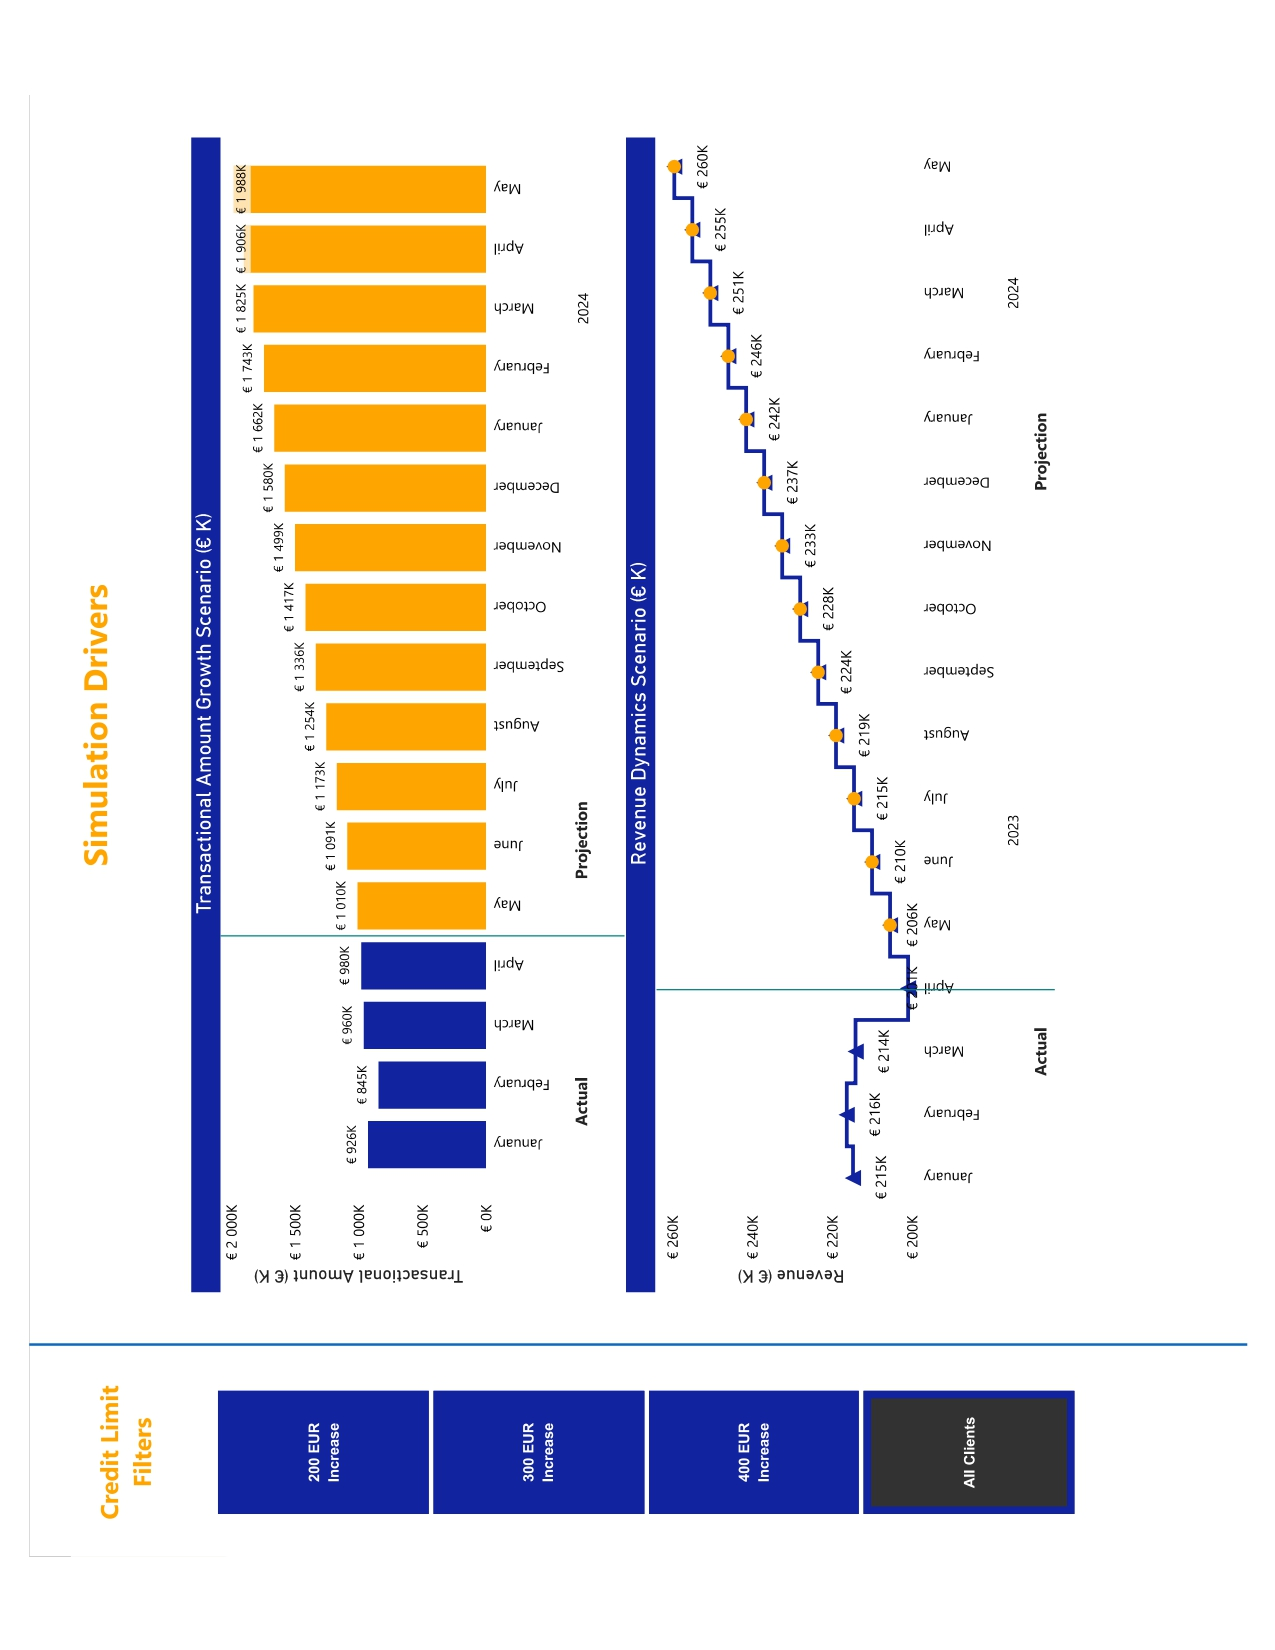

What the dashboard file says about the page in this screenshot:
{"tool":"powerbi","page":{"name":"Revenue: Budget vs. Actual","canvas":[1200,1000],"ordinal":1},"visuals":[{"type":"actionButton","box":[108.6,363.8,38,43.4],"z":0},{"type":"slicer","fields":{"Values":["Revenue.Credit Limit Setting Filters"]},"box":[8.6,132.6,151.8,732.2],"z":1000},{"type":"lineStackedColumnComboChart","title":"Transactional Amount Growth Scenario (€ K)","fields":{"Category":["TransactionalAmount.Date.Variation.Date Hierarchy.Year","TransactionalAmount.Date.Variation.Date Hierarchy.Month"],"Y":["Sum(TransactionalAmount.Value)"]},"box":[216.2,132.6,933,356.5],"z":2000},{"type":"shape","box":[498.9,157.9,11.6,331.6],"z":3000},{"type":"lineChart","title":"Revenue Dynamics Scenario (€ K)","fields":{"Y":["Sum(Revenue.Value)"],"Category":["Revenue.Date.Variation.Date Hierarchy.Year","Revenue.Date.Variation.Date Hierarchy.Month"]},"box":[216.2,489.1,933,352.6],"z":4000},{"type":"textbox","box":[150,900,300,300],"z":6000},{"type":"textbox","box":[550.6,439.1,102.8,49],"z":7000},{"type":"textbox","box":[249.8,439.1,149.9,49],"z":8000},{"type":"textbox","box":[291.1,815.8,149.9,49],"z":9000},{"type":"textbox","box":[869.6,815.8,102.8,49],"z":10000},{"type":"shape","box":[216,23.3,932.8,58.7],"z":11000},{"type":"shape","box":[21.4,23.3,128.5,108.9],"z":11001},{"type":"shape","box":[149.9,0,48.4,999.8],"z":11002},{"type":"shape","box":[457.9,514.7,14.7,327.4],"z":11003}]}

Visuals, with their boxes on the page's 1200x1000 design canvas (x1, y1, x2, y2). These are canvas units, not pixel positions in the 1275x1650 screenshot, which may show the page scaled, cropped or inside an application window:
actionButton: [x1=109, y1=364, x2=147, y2=407]
slicer - Revenue.Credit Limit Setting Filters: [x1=9, y1=133, x2=160, y2=865]
"Transactional Amount Growth Scenario (€ K)" lineStackedColumnComboChart: [x1=216, y1=133, x2=1149, y2=489]
shape: [x1=499, y1=158, x2=510, y2=490]
"Revenue Dynamics Scenario (€ K)" lineChart: [x1=216, y1=489, x2=1149, y2=842]
textbox: [x1=150, y1=900, x2=450, y2=1200]
textbox: [x1=551, y1=439, x2=653, y2=488]
textbox: [x1=250, y1=439, x2=400, y2=488]
textbox: [x1=291, y1=816, x2=441, y2=865]
textbox: [x1=870, y1=816, x2=972, y2=865]
shape: [x1=216, y1=23, x2=1149, y2=82]
shape: [x1=21, y1=23, x2=150, y2=132]
shape: [x1=150, y1=0, x2=198, y2=1000]
shape: [x1=458, y1=515, x2=473, y2=842]
